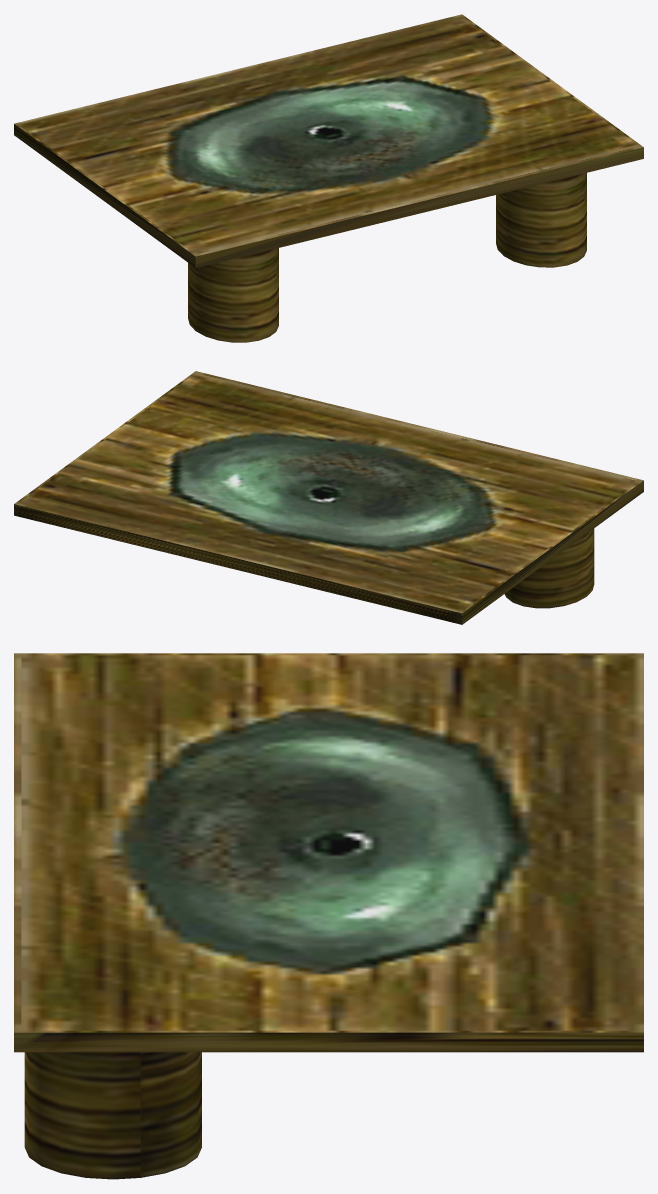
File: mesa2.obj
3 renders of one model, top to bottom at view 1: azimuth 30°, elevation 25°; view 2: azimuth 150°, elevation 25°; view 3: azimuth 270°, elevation 25°, orthographic. The views are drawn at different scales.
Visible parts, largest first — view 1: pCube1, pasted__pCylinder1 group, pCylinder1; view 2: pCube1, pasted__pCylinder1 group; view 3: pCube1, pCylinder1.
Boxes of the visible parts, box(x1,y1,x2,y2) form: pCube1: box(14, 14, 643, 267); pasted__pCylinder1 group: box(188, 248, 278, 342); pCylinder1: box(496, 173, 586, 267); pCube1: box(14, 371, 643, 624); pasted__pCylinder1 group: box(504, 528, 594, 608); pCube1: box(14, 653, 643, 1052); pCylinder1: box(24, 1052, 201, 1179).
Size of the model in its own units: 2.8 by 0.6128 by 1.97.
Materials: 4 (4 with a texture image).
